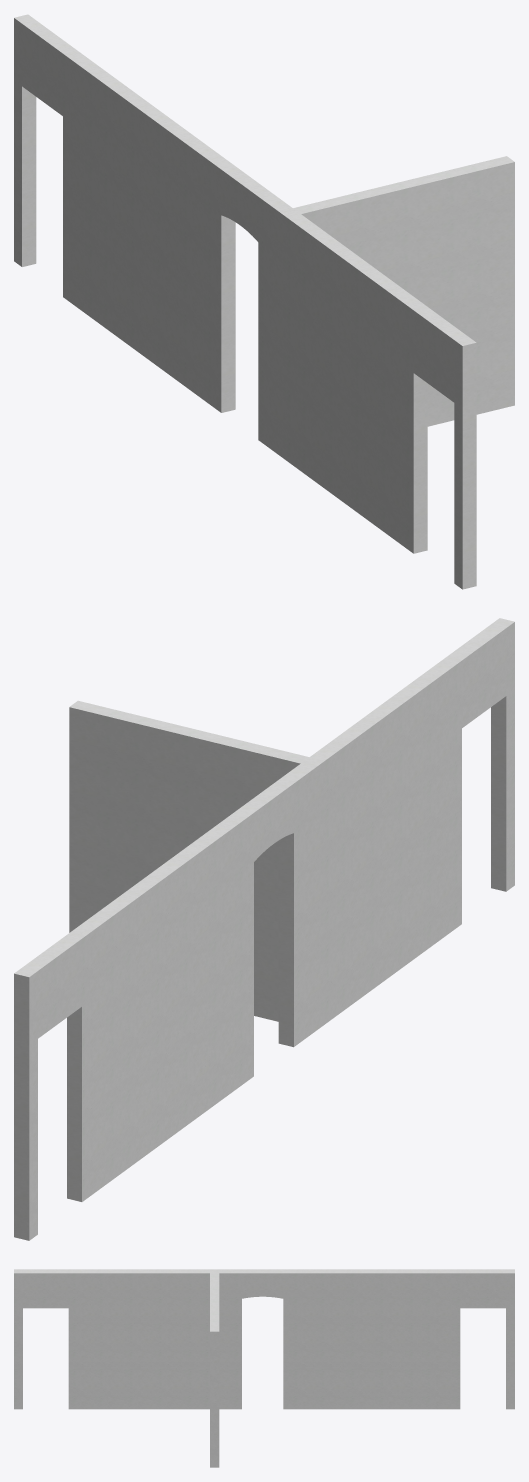
File: G層娛樂室 20220506 inner walls.gltf
3 views of the same model, one above another, from view 1: azimuth 30°, elevation 25°; view 2: azimuth 150°, elevation 25°; view 3: azimuth 270°, elevation 25° (orthographic). The views are drawn at different scales.
Parts seen in each view (by area): view 1: root; view 2: root; view 3: root.
Part boxes in pixels (left/top/right/bottom): root: left=14, top=14, right=514, bottom=589; root: left=14, top=618, right=514, bottom=1240; root: left=14, top=1269, right=514, bottom=1467.
Size of the model in its own units: 3.23 by 3.3 by 11.02.
1 material, 1 textured.
